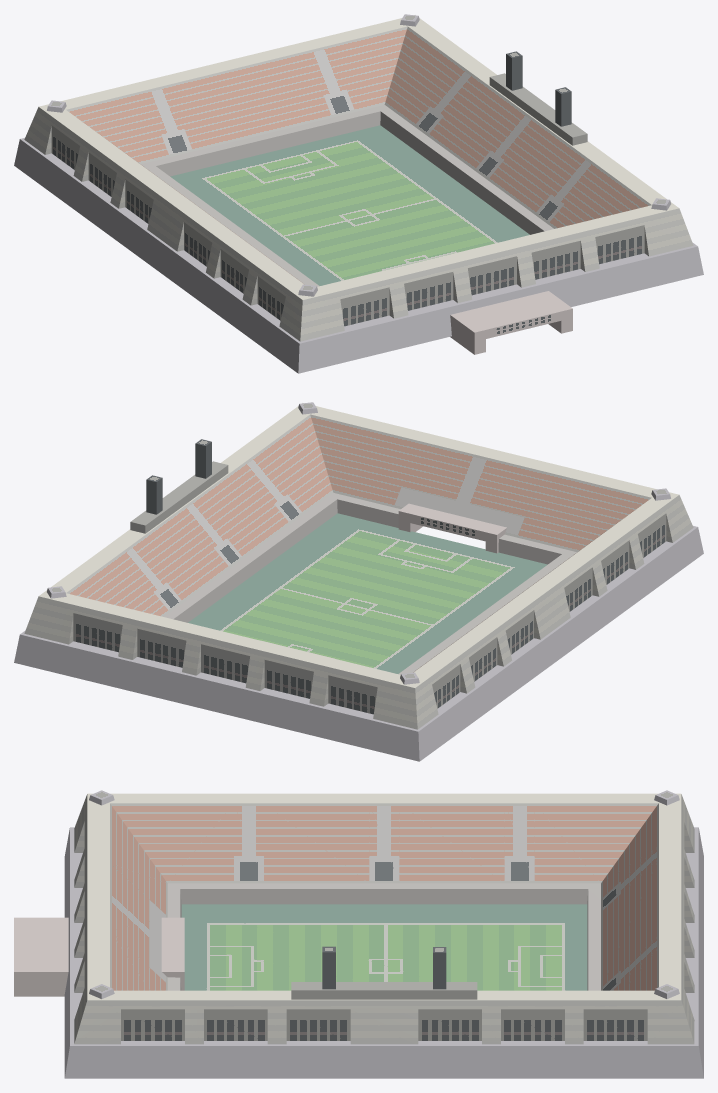
Rendered from 028e_Soccer_Stadium.glb.
3 views of the same model, one above another, from view 1: azimuth 30°, elevation 25°; view 2: azimuth 150°, elevation 25°; view 3: azimuth 270°, elevation 25° (orthographic). The views are drawn at different scales.
Parts seen in each view (by area): view 1: part_0; view 2: part_0; view 3: part_0.
Part boxes in pixels (x1,y1,x2,y2): part_0: [14, 14, 703, 373]; part_0: [14, 402, 703, 761]; part_0: [14, 790, 703, 1078].
Bounding box in the file's own units: 140 × 34.89 × 184.
1 material, 1 textured.
